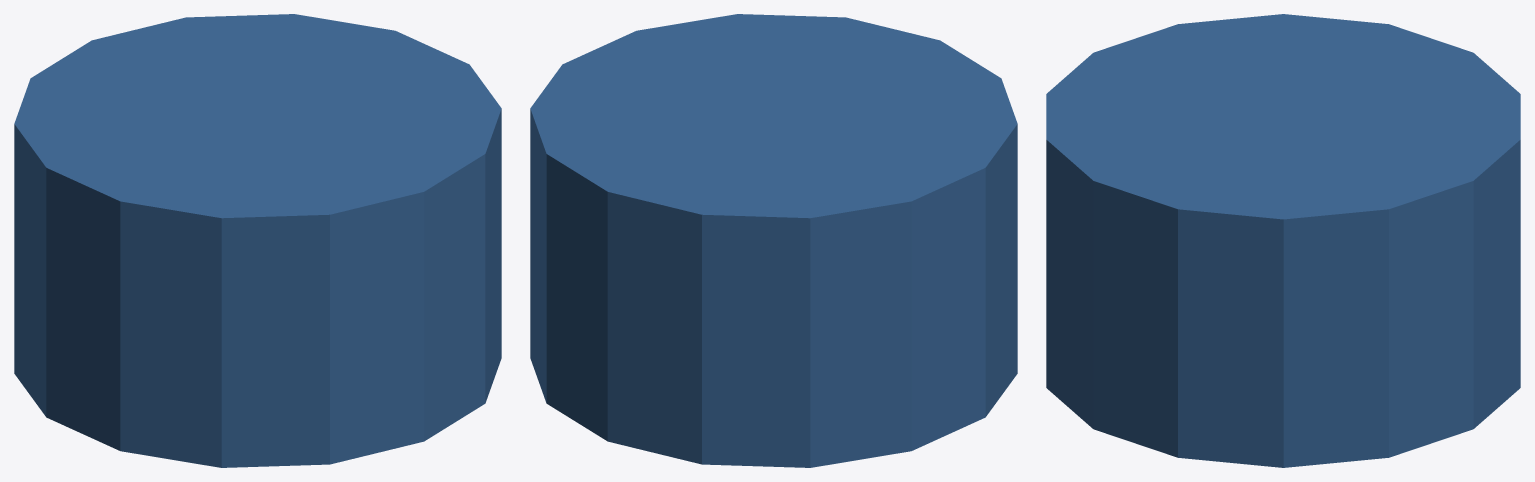
File: 0047-Buildings-shell-pieces-roof-plant-emitRoofPlant-42-triangles-1-60-x-0-90-x-1-56-.glb
The picture shows the model from 3 angles, left to right: view 1: azimuth 30°, elevation 25°; view 2: azimuth 150°, elevation 25°; view 3: azimuth 270°, elevation 25°; orthographic projection.
Parts seen in each view (by area): view 1: emitRoofPlant; view 2: emitRoofPlant; view 3: emitRoofPlant.
Part boxes in pixels (bbox=[...]): emitRoofPlant: bbox=[14, 14, 501, 467]; emitRoofPlant: bbox=[530, 14, 1017, 467]; emitRoofPlant: bbox=[1046, 14, 1520, 467].
Size of the model in its own units: 1.6 by 0.9 by 1.56.
